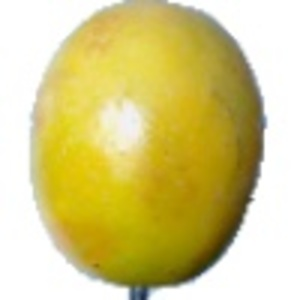maracujá: (28, 1, 274, 300)
